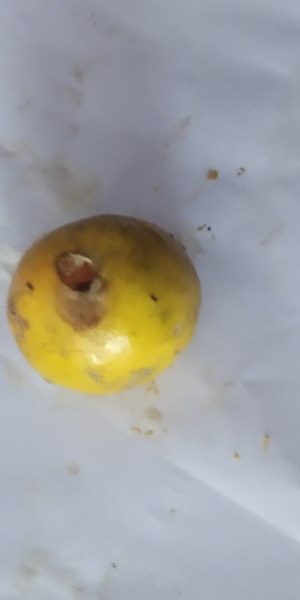BAD: (6, 214, 204, 402)
